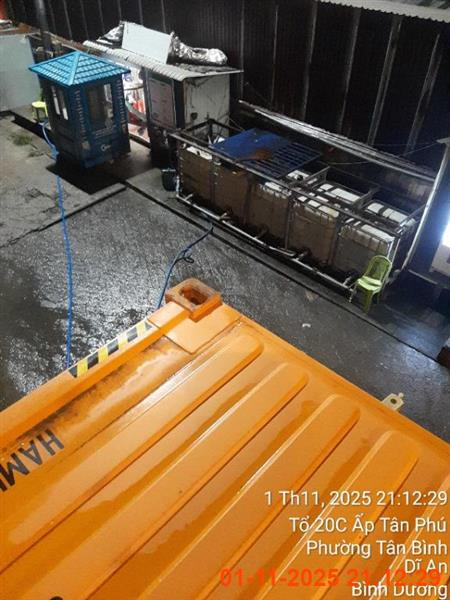broken: (0, 276, 449, 598)
